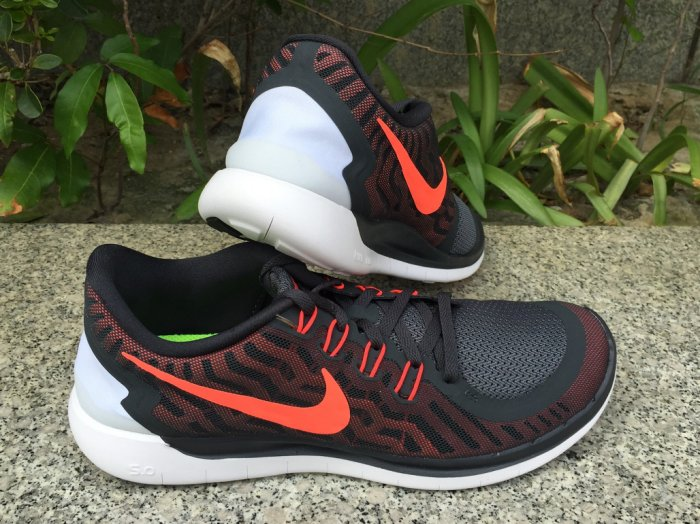Nike: (115, 345, 355, 441), (366, 111, 458, 220)
